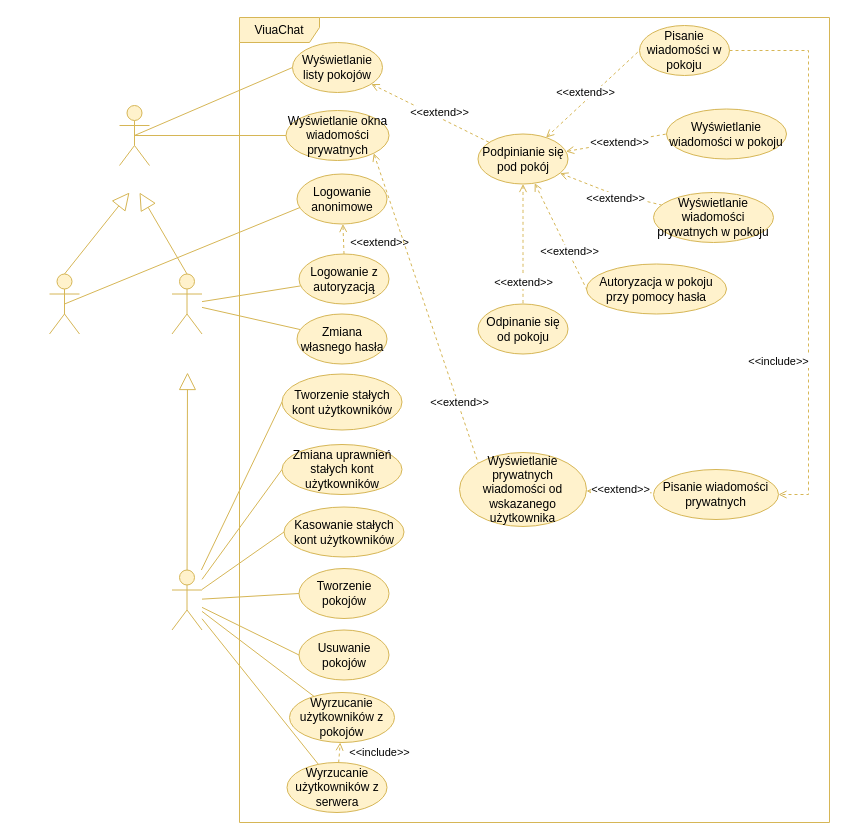
The diagram is 847 pixels wide and 840 high, and some of its shapes have lost their labels. The centre of each missing label's shape, as x and y in pixels:
Administrator: point 186,599
Użytkownik bez stałego konta: point 64,303
Użytkownik czatu: point 134,135
Użytkownik ze stałym kontem: point 186,303
